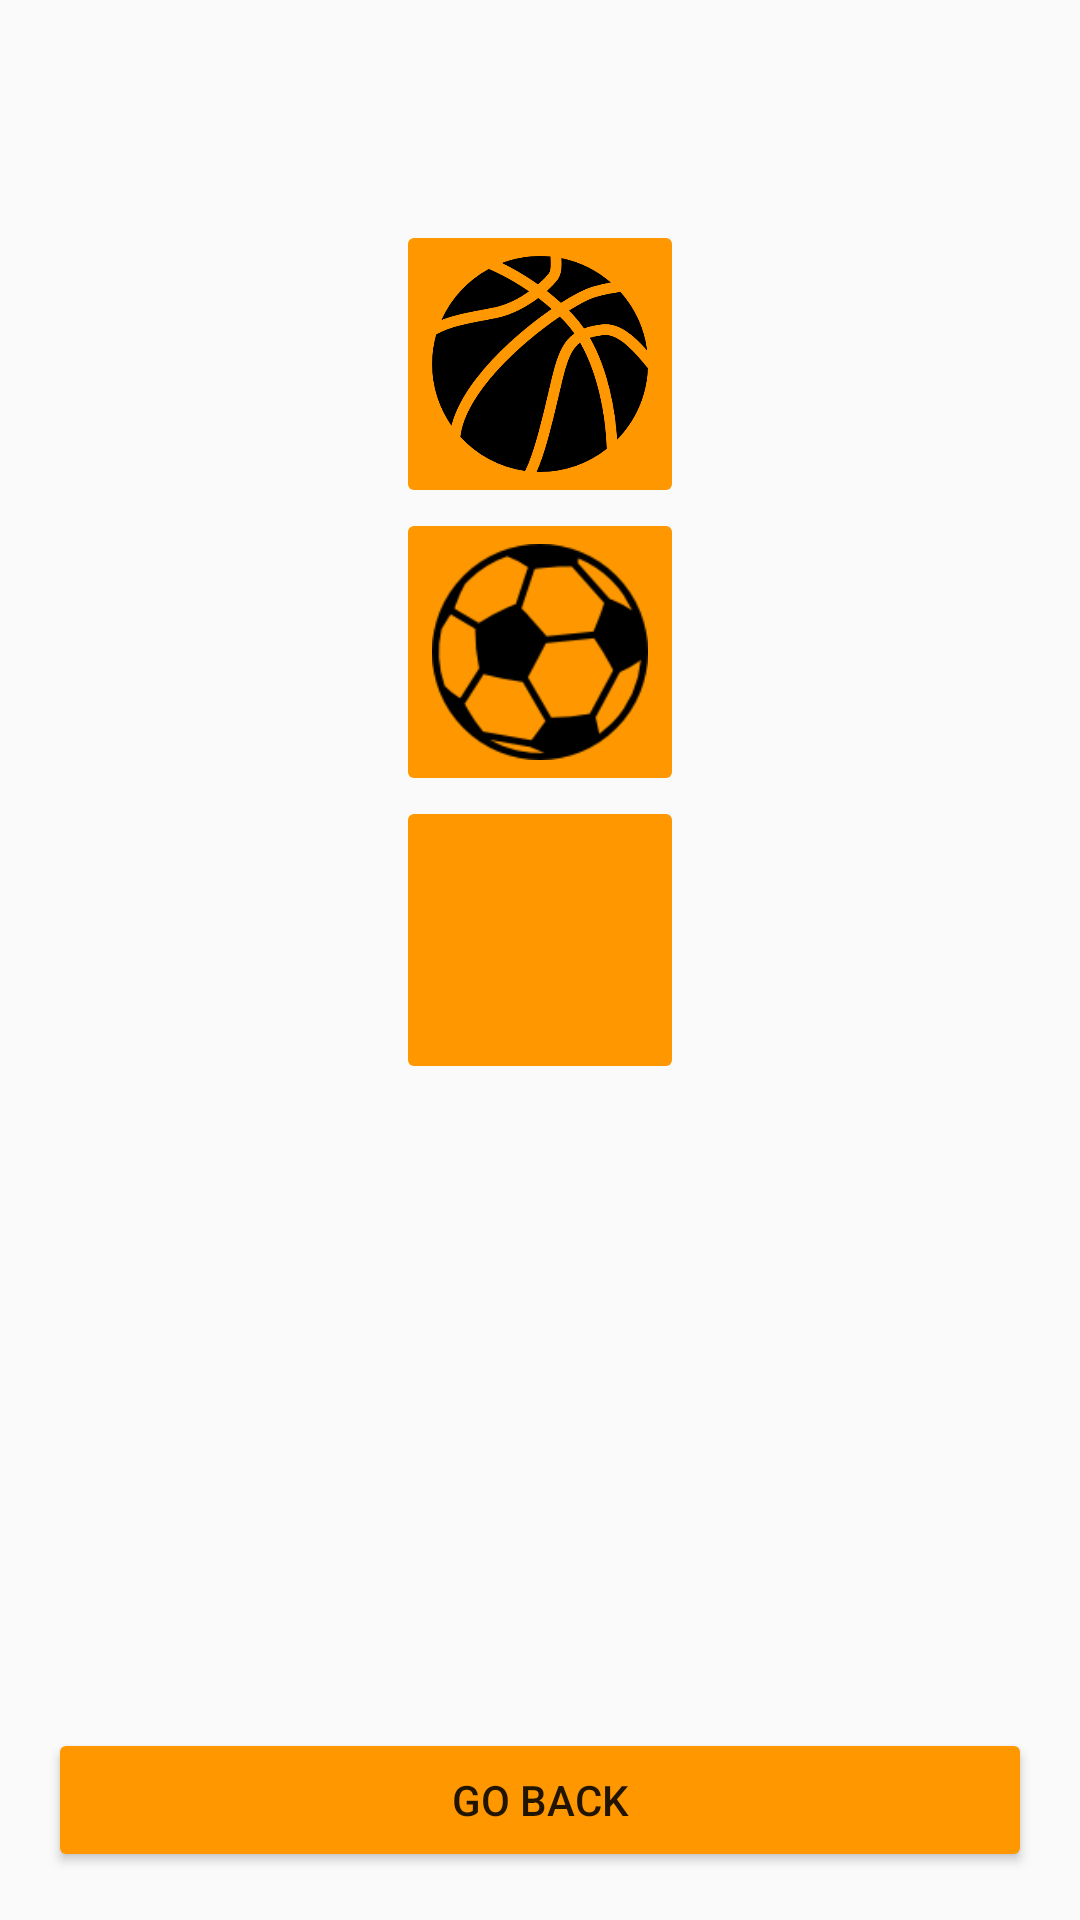

Icon click points for this 1080×1920 phone screenshot, format [x,y]:
ball of basketball: [540,364]
soccer ball: [540,652]
